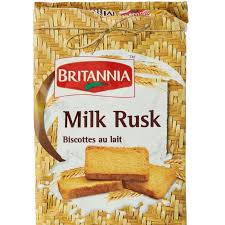Britania-toast-med: (34, 4, 185, 222)
